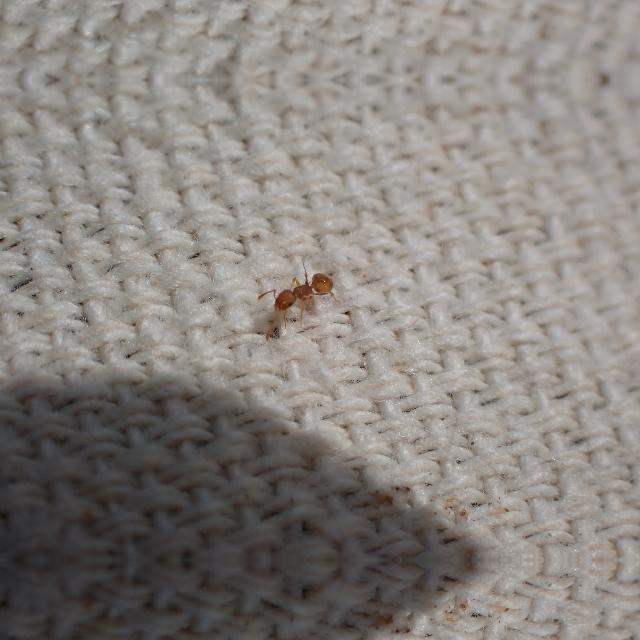Temnothorax: (248, 252, 346, 326)
